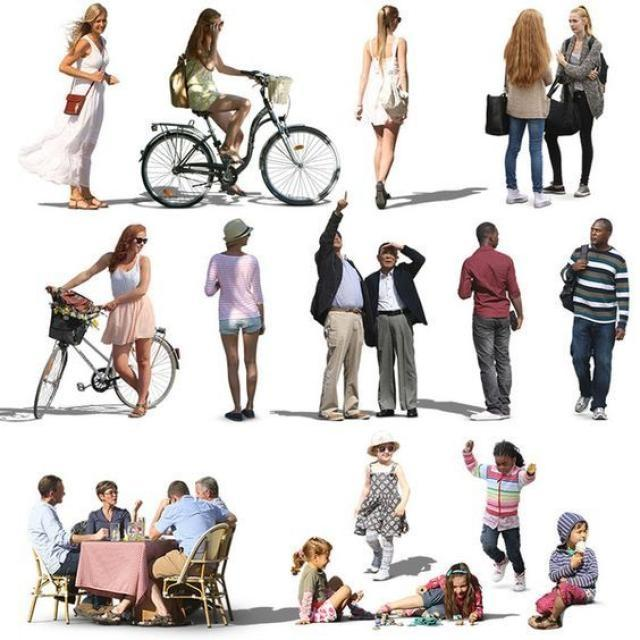obstacle: (74, 536, 178, 624)
person: (17, 2, 119, 209), (54, 222, 156, 418), (180, 7, 261, 195), (309, 190, 372, 420), (560, 216, 628, 418), (457, 222, 523, 419), (203, 218, 266, 421), (541, 5, 607, 196), (361, 240, 428, 418), (27, 474, 109, 618), (462, 439, 537, 591), (354, 4, 409, 209), (502, 8, 552, 208), (353, 430, 410, 581), (528, 511, 598, 628), (291, 536, 374, 624), (376, 562, 484, 624)
